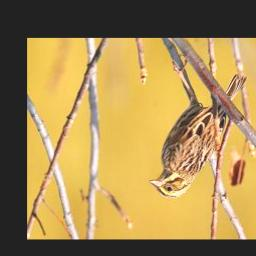Sparrow: (151, 54, 250, 200)
